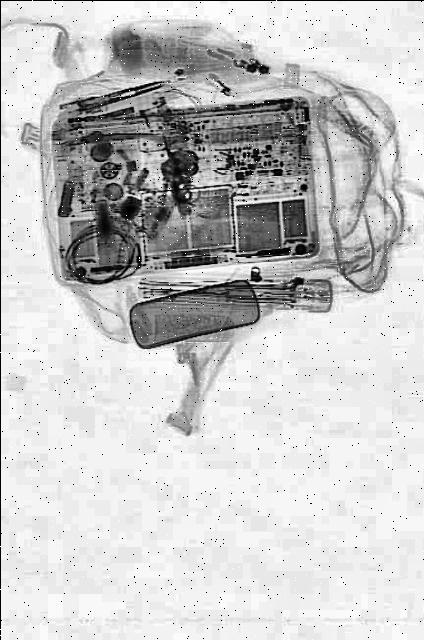Knife: (63, 76, 163, 120)
